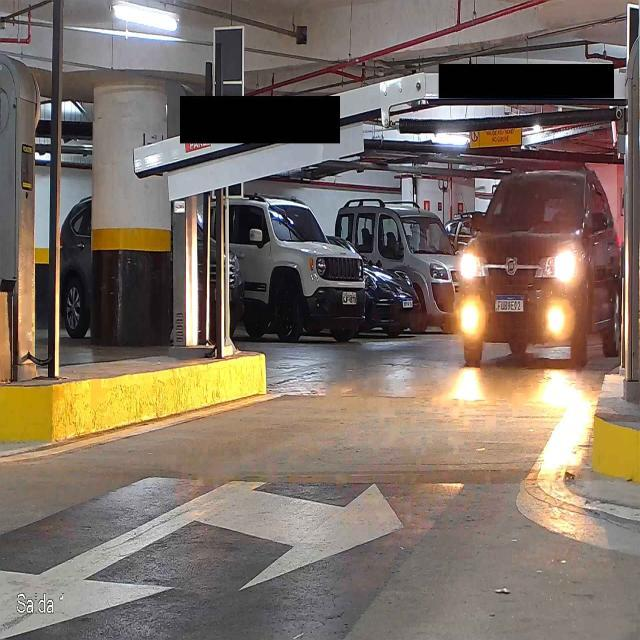mercosul_plate: (492, 294, 528, 313)
